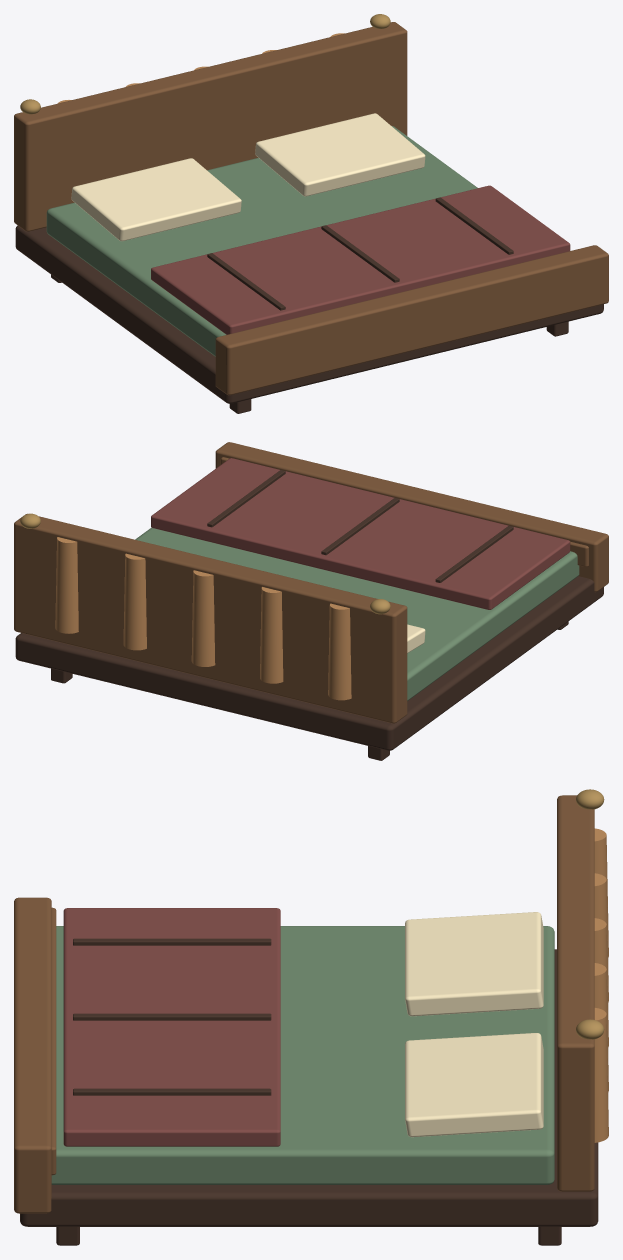
Rendered from detail_double_bed.glb.
3 views of the same model, one above another, from view 1: azimuth 30°, elevation 25°; view 2: azimuth 150°, elevation 25°; view 3: azimuth 270°, elevation 25° (orthographic). The views are drawn at different scales.
Parts seen in each view (by area): view 1: wood, cloth; view 2: wood, cloth; view 3: cloth, wood.
Part boxes in pixels (x1,y1,x2,y2): wood: [14, 14, 608, 413]; cloth: [46, 113, 570, 356]; wood: [14, 442, 608, 760]; cloth: [135, 458, 579, 700]; cloth: [51, 908, 554, 1184]; wood: [14, 789, 608, 1245].
Size of the model in its own units: 2.8 by 1.2 by 2.8.
